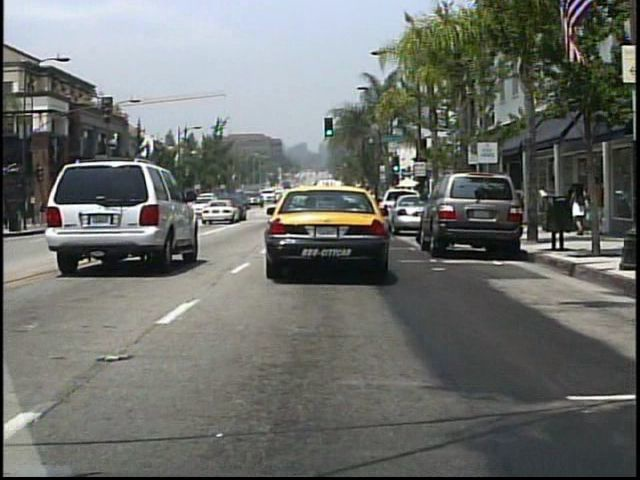person: (566, 179, 584, 233), (570, 181, 587, 238), (597, 172, 598, 233)
